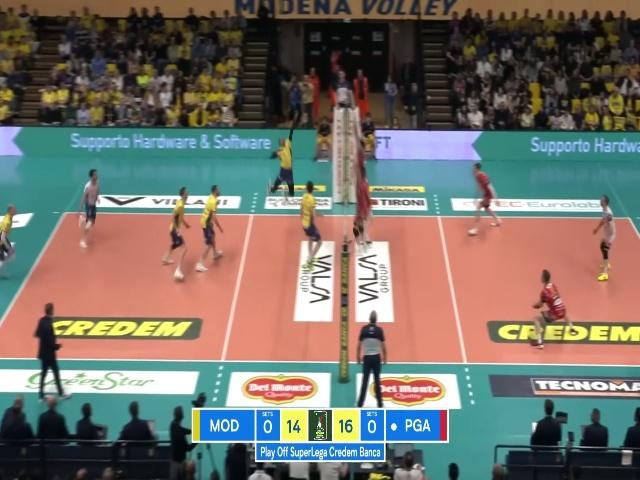volleyball court: (0, 212, 638, 364)
